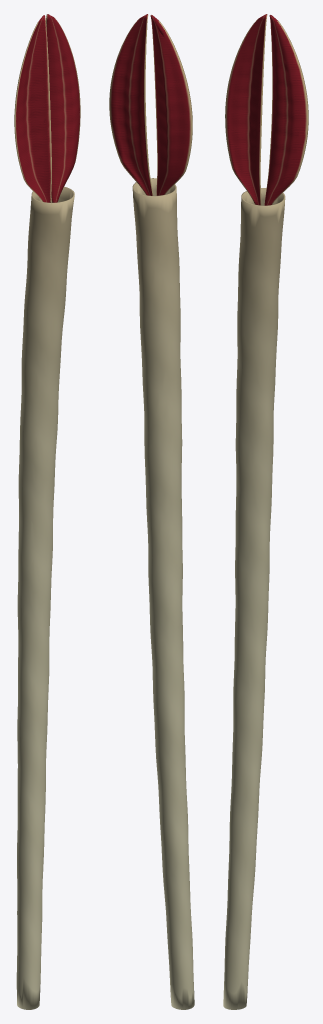
Rendered from NEW689_Tubeworm_LOD1.fbx.
The picture shows the model from 3 angles, left to right: view 1: azimuth 30°, elevation 25°; view 2: azimuth 150°, elevation 25°; view 3: azimuth 330°, elevation 25°; orthographic projection.
Parts seen in each view (by area): view 1: Protective_tube, Branchial_lamella_left, Branchial_lamella_right; view 2: Protective_tube, Branchial_lamella_right, Branchial_lamella_left; view 3: Protective_tube, Branchial_lamella_right, Branchial_lamella_left.
Part boxes in pixels (bbox=[...]): Protective_tube: bbox=[16, 186, 74, 1009]; Branchial_lamella_left: bbox=[14, 15, 51, 202]; Branchial_lamella_right: bbox=[45, 14, 80, 202]; Protective_tube: bbox=[132, 178, 194, 1009]; Branchial_lamella_right: bbox=[109, 14, 153, 195]; Branchial_lamella_left: bbox=[150, 15, 192, 195]; Protective_tube: bbox=[223, 188, 285, 1009]; Branchial_lamella_right: bbox=[264, 15, 308, 205]; Branchial_lamella_left: bbox=[225, 14, 267, 205].
Size of the model in its own units: 0.0888 by 1.13 by 0.0492.
3 materials, 3 textured.
